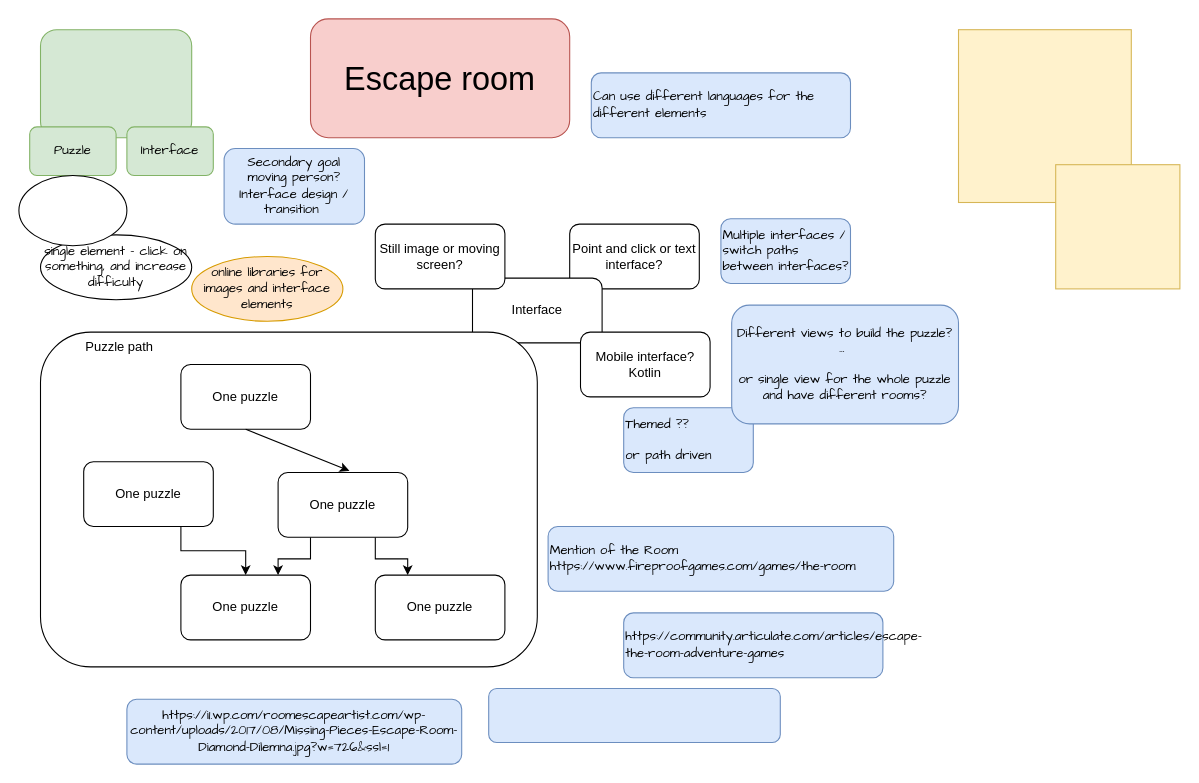
Some shapes in this 1199 by 783 pixel diagram are drawn without their labels. Here are the shapes that lost their labels. From the top down, the centre of each, then its label:
At pixel 115 83: "MVP? two rooms ... one for the puzzle and one for the next stage".
At pixel 1044 115: "Can have Kotlin and Java classes in the same project".
At pixel 72 210: "Type? simple first puzzle".
At pixel 1117 226: "Good with IntelliJ, as it prompts for the right libraries, etc.".
At pixel 634 714: "https://i.redd.it/y84k463yci931.jpg".
